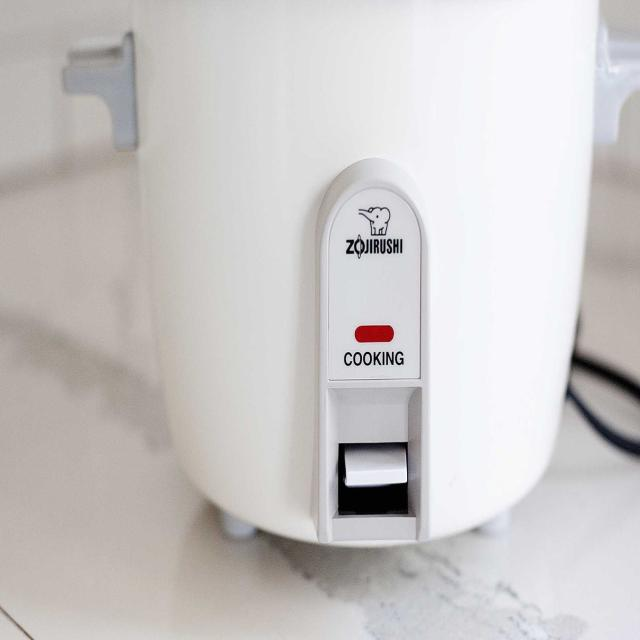appliances: (65, 0, 598, 544), (596, 26, 639, 138), (120, 137, 123, 138), (125, 135, 125, 137)
